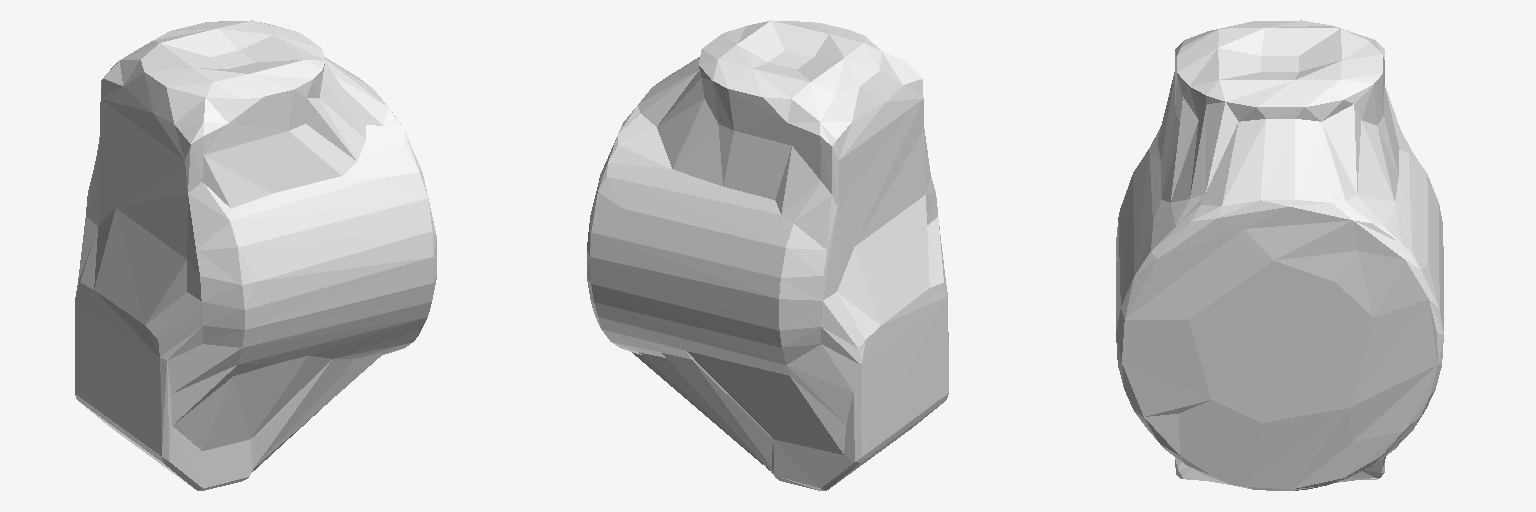
The robot description file, URDF, robot "TRLC-DK1-Follower_URDF_v2":
<?xml version="1.0" encoding="utf-8"?>
<!-- This URDF was automatically created by SolidWorks to URDF Exporter! Originally created by [author] ([email redacted]) 
     Commit Version: 1.6.0-4-g7f85cfe  Build Version: 1.6.7995.38578
     For more information, please see http://wiki.ros.org/sw_urdf_exporter -->
<robot
  name="TRLC-DK1-Follower_URDF_v2">
  <link
    name="base_link">
    <inertial>
      <origin
        xyz="0 0 0"
        rpy="0 0 0" />
      <mass
        value="0.02782" />
      <inertia
        ixx="2.099E-05"
        ixy="-7.8904E-11"
        ixz="-2.3002E-11"
        iyy="4.6405E-05"
        iyz="5.0926E-11"
        izz="4.1402E-05" />
    </inertial>
    <visual>
      <origin
        xyz="0 0 0"
        rpy="0 0 0" />
      <geometry>
        <mesh
          filename="package://TRLC-DK1-Follower_URDF_v2/meshes/base_link.stl" />
      </geometry>
      <material
        name="">
        <color
          rgba="0.96078 0.96078 0.96471 1" />
      </material>
    </visual>
    <collision>
      <origin
        xyz="0 0 0"
        rpy="0 0 0" />
      <geometry>
        <mesh
          filename="package://TRLC-DK1-Follower_URDF_v2/meshes/base_link.stl" />
      </geometry>
    </collision>
  </link>
  <link
    name="link1-2">
    <inertial>
      <origin
        xyz="0 0 0"
        rpy="0 0 0" />
      <mass
        value="0.024532" />
      <inertia
        ixx="1.3789E-05"
        ixy="7.836E-06"
        ixz="-1.077E-06"
        iyy="2.9228E-05"
        iyz="-2.5729E-06"
        izz="3.0444E-05" />
    </inertial>
    <visual>
      <origin
        xyz="0 0 0"
        rpy="0 0 0" />
      <geometry>
        <mesh
          filename="package://TRLC-DK1-Follower_URDF_v2/meshes/link1-2.stl" />
      </geometry>
      <material
        name="">
        <color
          rgba="0.96078 0.96078 0.96471 1" />
      </material>
    </visual>
    <collision>
      <origin
        xyz="0 0 0"
        rpy="0 0 0" />
      <geometry>
        <mesh
          filename="package://TRLC-DK1-Follower_URDF_v2/meshes/link1-2.stl" />
      </geometry>
    </collision>
  </link>
  <joint
    name="Base_Joint"
    type="revolute">
    <origin
      xyz="0 0 0.06"
      rpy="0 0 0" />
    <parent
      link="base_link" />
    <child
      link="link1-2" />
    <axis
      xyz="0 0 1" />
    <limit
      lower="-6.28"
      upper="6.28"
      effort="0"
      velocity="0" />
  </joint>
  <link
    name="Link1">
    <inertial>
      <origin
        xyz="0 0 0"
        rpy="0 0 0" />
      <mass
        value="0.537601776973517" />
      <inertia
        ixx="0.00157171167790895"
        ixy="-0.00046460753958274"
        ixz="0.000219479025227951"
        iyy="0.000656277889913025"
        iyz="0.000524236672627174"
        izz="0.00145557081167622" />
    </inertial>
    <visual>
      <origin
        xyz="0 0 0"
        rpy="0 0 0" />
      <geometry>
        <mesh
          filename="package://TRLC-DK1-Follower_URDF_v2/meshes/Link1.stl" />
      </geometry>
      <material
        name="">
        <color
          rgba="0.752941176470588 0.752941176470588 0.752941176470588 1" />
      </material>
    </visual>
    <collision>
      <origin
        xyz="0 0 0"
        rpy="0 0 0" />
      <geometry>
        <mesh
          filename="package://TRLC-DK1-Follower_URDF_v2/meshes/Link1.stl" />
      </geometry>
    </collision>
  </link>
  <joint
    name="Joint_2"
    type="revolute">
    <origin
      xyz="0 0.02 0.0385"
      rpy="0 0 0" />
    <parent
      link="link1-2" />
    <child
      link="Link1" />
    <axis
      xyz="1 0 0" />
    <limit
      lower="-3.4"
      upper="0.27"
      effort="0"
      velocity="0" />
  </joint>
  <link
    name="Link_2">
    <inertial>
      <origin
        xyz="0 0 0"
        rpy="0 0 0" />
      <mass
        value="0.299922094541001" />
      <inertia
        ixx="0.000540301993803001"
        ixy="-0.000187970239396418"
        ixz="1.31724170144096E-05"
        iyy="0.000170079721765692"
        iyz="3.13483359447147E-05"
        izz="0.000578820329406052" />
    </inertial>
    <visual>
      <origin
        xyz="0 0 0"
        rpy="0 0 0" />
      <geometry>
        <mesh
          filename="package://TRLC-DK1-Follower_URDF_v2/meshes/Link_2.stl" />
      </geometry>
      <material
        name="">
        <color
          rgba="0.752941176470588 0.752941176470588 0.752941176470588 1" />
      </material>
    </visual>
    <collision>
      <origin
        xyz="0 0 0"
        rpy="0 0 0" />
      <geometry>
        <mesh
          filename="package://TRLC-DK1-Follower_URDF_v2/meshes/Link_2.stl" />
      </geometry>
    </collision>
  </link>
  <joint
    name="Joint_3"
    type="revolute">
    <origin
      xyz="0 -0.264 0"
      rpy="0 0 0" />
    <parent
      link="Link1" />
    <child
      link="Link_2" />
    <axis
      xyz="1 0 0" />
    <limit
      lower="0"
      upper="4.95"
      effort="0"
      velocity="0" />
  </joint>
  <link
    name="link4-5">
    <inertial>
      <origin
        xyz="0 0 0"
        rpy="0 0 0" />
      <mass
        value="0.0142938416889126" />
      <inertia
        ixx="1.19004851586458E-05"
        ixy="3.34981146101962E-06"
        ixz="-1.56617016842922E-06"
        iyy="1.85004964973935E-05"
        iyz="-3.74137891126362E-06"
        izz="1.78854619245037E-05" />
    </inertial>
    <visual>
      <origin
        xyz="0 0 0"
        rpy="0 0 0" />
      <geometry>
        <mesh
          filename="package://TRLC-DK1-Follower_URDF_v2/meshes/link4-5.stl" />
      </geometry>
      <material
        name="">
        <color
          rgba="0.96078431372549 0.96078431372549 0.964705882352941 1" />
      </material>
    </visual>
    <collision>
      <origin
        xyz="0 0 0"
        rpy="0 0 0" />
      <geometry>
        <mesh
          filename="package://TRLC-DK1-Follower_URDF_v2/meshes/link4-5.stl" />
      </geometry>
    </collision>
  </link>
  <joint
    name="Joint_4"
    type="revolute">
    <origin
      xyz="0 0.244004 0.059971"
      rpy="0 0 0" />
    <parent
      link="Link_2" />
    <child
      link="link4-5" />
    <axis
      xyz="-1 0 0" />
    <limit
      lower="-1.6"
      upper="2.2"
      effort="0"
      velocity="0" />
  </joint>
  <link
    name="link5-6">
    <inertial>
      <origin
        xyz="0 0 0"
        rpy="0 0 0" />
      <mass
        value="0.11909711022403" />
      <inertia
        ixx="3.93613431216204E-05"
        ixy="5.4049772026762E-06"
        ixz="7.63000534350956E-07"
        iyy="4.60524619539394E-05"
        iyz="1.44923342895047E-06"
        izz="3.3356206506896E-05" />
    </inertial>
    <visual>
      <origin
        xyz="0 0 0"
        rpy="0 0 0" />
      <geometry>
        <mesh
          filename="package://TRLC-DK1-Follower_URDF_v2/meshes/link5-6.stl" />
      </geometry>
      <material
        name="">
        <color
          rgba="0.96078431372549 0.96078431372549 0.964705882352941 1" />
      </material>
    </visual>
    <collision>
      <origin
        xyz="0 0 0"
        rpy="0 0 0" />
      <geometry>
        <mesh
          filename="package://TRLC-DK1-Follower_URDF_v2/meshes/link5-6.stl" />
      </geometry>
    </collision>
  </link>
  <joint
    name="Joint_5"
    type="revolute">
    <origin
      xyz="0 0.061993 0.038"
      rpy="0 0 0" />
    <parent
      link="link4-5" />
    <child
      link="link5-6" />
    <axis
      xyz="0 0 1" />
    <limit
      lower="-1.57"
      upper="1.57"
      effort="0"
      velocity="0" />
  </joint>
  <link
    name="Link6-7">
    <inertial>
      <origin
        xyz="0 0 0"
        rpy="0 0 0" />
      <mass
        value="0.289722572316062" />
      <inertia
        ixx="0.000117446622646519"
        ixy="4.81173421730959E-05"
        ixz="-1.34417340618578E-05"
        iyy="0.000168014216574977"
        iyz="1.18839604483301E-05"
        izz="0.000169419353992404" />
    </inertial>
    <visual>
      <origin
        xyz="0 0 0"
        rpy="0 0 0" />
      <geometry>
        <mesh
          filename="package://TRLC-DK1-Follower_URDF_v2/meshes/Link6-7.stl" />
      </geometry>
      <material
        name="">
        <color
          rgba="0.247058823529412 0.247058823529412 0.247058823529412 1" />
      </material>
    </visual>
    <collision>
      <origin
        xyz="0 0 0"
        rpy="0 0 0" />
      <geometry>
        <mesh
          filename="package://TRLC-DK1-Follower_URDF_v2/meshes/Link6-7.stl" />
      </geometry>
    </collision>
  </link>
  <joint
    name="Gripper_Rot"
    type="revolute">
    <origin
      xyz="0.0 0.032 -0.0375"
      rpy="0 0 0" />
    <parent
      link="link5-6" />
    <child
      link="Link6-7" />
    <axis
      xyz="0 -1 0" />
    <limit
      lower="-3.14"
      upper="3.14"
      effort="0"
      velocity="0" />
  </joint>
  <link
    name="finger_left">
    <inertial>
      <origin
        xyz="0 0 0"
        rpy="0 0 0" />
      <mass
        value="0.0745959905268717" />
      <inertia
        ixx="2.55177116500135E-05"
        ixy="-4.36022105863221E-06"
        ixz="1.08091124922434E-06"
        iyy="2.05389284814265E-05"
        iyz="-1.4290149214861E-06"
        izz="2.05479736979508E-05" />
    </inertial>
    <visual>
      <origin
        xyz="0 0 0"
        rpy="0 0 0" />
      <geometry>
        <mesh
          filename="package://TRLC-DK1-Follower_URDF_v2/meshes/finger_left.stl" />
      </geometry>
      <material
        name="">
        <color
          rgba="0.247058823529412 0.247058823529412 0.247058823529412 1" />
      </material>
    </visual>
    <collision>
      <origin
        xyz="0 0 0"
        rpy="0 0 0" />
      <geometry>
        <mesh
          filename="package://TRLC-DK1-Follower_URDF_v2/meshes/finger_left.stl" />
      </geometry>
    </collision>
  </link>
  <joint
    name="gripper_left"
    type="prismatic">
    <origin
      xyz="0 0 0"
      rpy="0 0 0" />
    <parent
      link="Link6-7" />
    <child
      link="finger_left" />
    <axis
      xyz="-1 0 0" />
    <limit
      lower="0.0"
      upper="0.04"
      effort="0"
      velocity="0" />
  </joint>
  <link
    name="finger_right">
    <inertial>
      <origin
        xyz="0 0 0"
        rpy="0 0 0" />
      <mass
        value="0.0745959905268717" />
      <inertia
        ixx="2.55177116500135E-05"
        ixy="-4.36022105863221E-06"
        ixz="1.08091124922434E-06"
        iyy="2.05389284814265E-05"
        iyz="-1.4290149214861E-06"
        izz="2.05479736979508E-05" />
    </inertial>
    <visual>
      <origin
        xyz="0 0 0"
        rpy="0 0 0" />
      <geometry>
        <mesh
          filename="package://TRLC-DK1-Follower_URDF_v2/meshes/finger_right.stl" />
      </geometry>
      <material
        name="">
        <color
          rgba="0.247058823529412 0.247058823529412 0.247058823529412 1" />
      </material>
    </visual>
    <collision>
      <origin
        xyz="0 0 0"
        rpy="0 0 0" />
      <geometry>
        <mesh
          filename="package://TRLC-DK1-Follower_URDF_v2/meshes/finger_right.stl" />
      </geometry>
    </collision>
  </link>
  <joint
    name="gripper_right"
    type="prismatic">
    <origin
      xyz="0 0 0"
      rpy="0 0 0" />
    <parent
      link="Link6-7" />
    <child
      link="finger_right" />
    <axis
      xyz="1 0 0" />
    <limit
      lower="0.0"
      upper="0.04"
      effort="0"
      velocity="0" />
    <mimic joint="gripper_left" multiplier="1" offset="0" />
  </joint>
</robot>

--- What the picture shows (computed from the rendered views, not written in the file) ---
3 views of the same robot in one strip: view 1: azimuth 30°, elevation 25°; view 2: azimuth 150°, elevation 25°; view 3: azimuth 270°, elevation 25° (orthographic).
Robot: TRLC-DK1-Follower_URDF_v2 — 9 links, 8 joints (6 revolute, 2 prismatic); root link base_link; default pose: all joints at 0.
Links seen in each view (by area): view 1: link5-6; view 2: link5-6; view 3: link5-6.
Boxes of the visible links, box(x1,y1,x2,y2) form: link5-6: box(75, 20, 436, 490); link5-6: box(587, 20, 948, 490); link5-6: box(1116, 20, 1443, 490).
Size in the robot's own frame: 0.062 by 0.0609 by 0.0909 metres.
1 mesh visuals loaded from 9 distinct referenced files (1 binary STL); not drawn: 8 (reference not matched to a file when rendering).